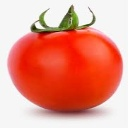tomato: (8, 28, 123, 112)
